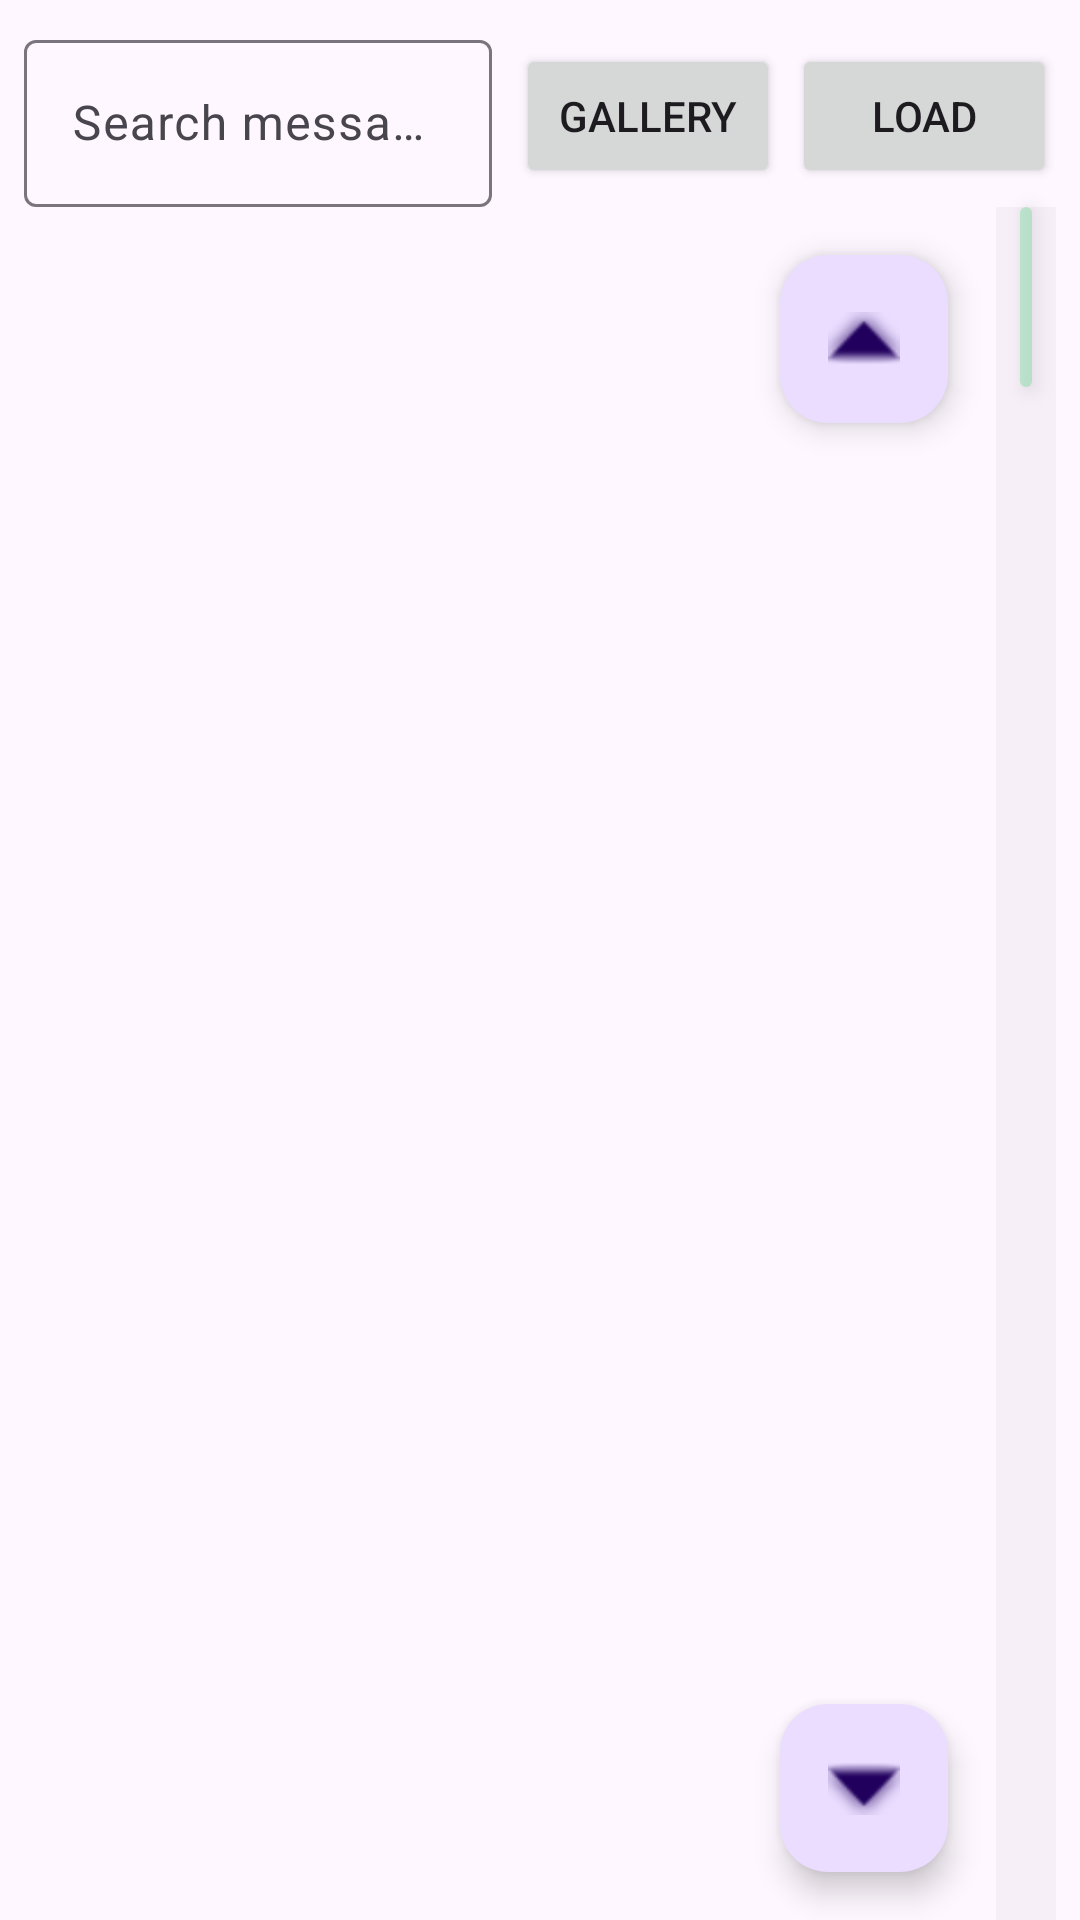

Where to tap for icons on this 1080*1920 app screen, as [x,y]:
Scroll to bottom: [864,1788]
Scroll to top: [864,338]
